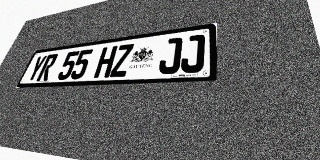5: (69, 49, 93, 79), (56, 51, 80, 80)
H: (93, 46, 118, 78)
J: (157, 37, 183, 75), (180, 34, 205, 73)
R: (36, 53, 59, 81)
Y: (25, 55, 48, 82)
Z: (109, 43, 134, 77)
